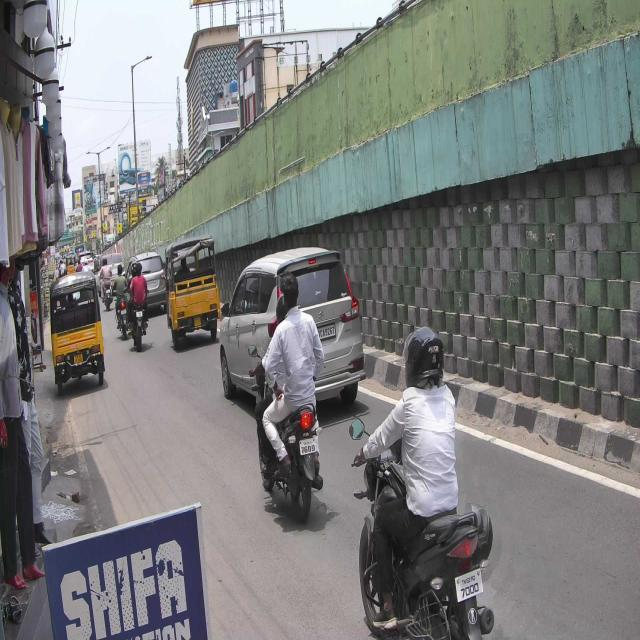double_rider: (248, 269, 326, 520)
single_rider: (349, 326, 494, 640)
